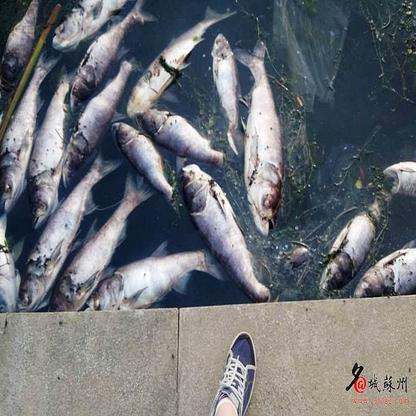deceased fish: (25, 149, 116, 310), (57, 171, 147, 310), (181, 163, 271, 300), (128, 6, 238, 117), (235, 43, 283, 233), (1, 53, 54, 216), (71, 2, 156, 93), (97, 246, 221, 307), (30, 69, 71, 229), (324, 194, 388, 290), (111, 121, 175, 203), (138, 107, 229, 164), (352, 243, 416, 297), (210, 32, 241, 142), (1, 220, 23, 313)
